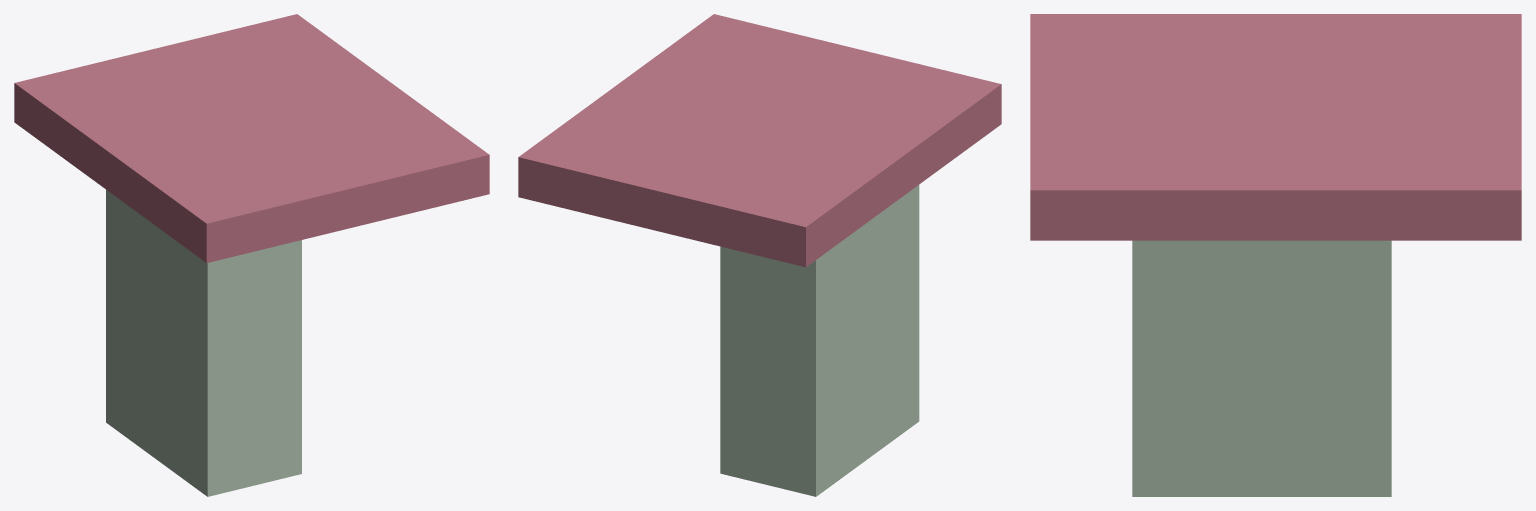
The picture shows the model from 3 angles, left to right: view 1: azimuth 30°, elevation 25°; view 2: azimuth 150°, elevation 25°; view 3: azimuth 270°, elevation 25°; orthographic projection. The views are drawn at different scales.
Visible parts, largest first — view 1: world; view 2: world; view 3: world.
Part boxes in pixels (bbox=[...]): world: bbox=[14, 14, 489, 496]; world: bbox=[518, 14, 1001, 496]; world: bbox=[1030, 14, 1521, 496].
Size of the model in its own units: 4.5 by 4.75 by 5.3.
